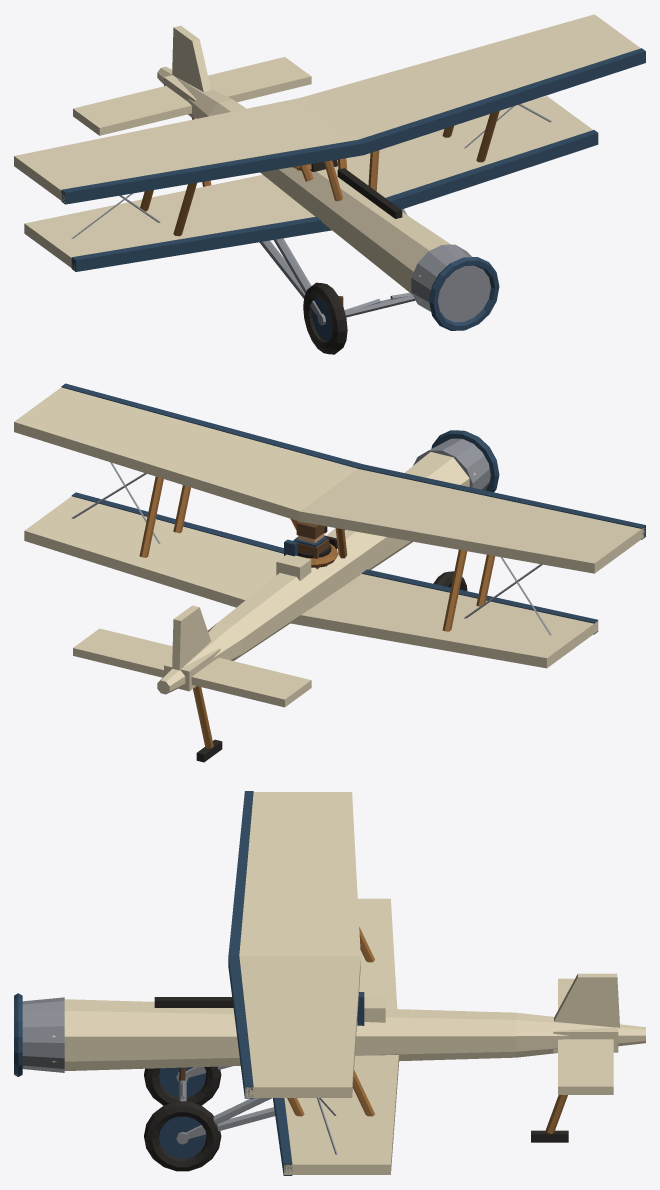
Rendered from body.glb.
The picture shows the model from 3 angles, top to bottom: view 1: azimuth 30°, elevation 25°; view 2: azimuth 150°, elevation 25°; view 3: azimuth 270°, elevation 25°; orthographic projection. The views are drawn at different scales.
Visible parts, largest first — view 1: wing_1, wing_0, wing_1_leading_edge, fuselage, wing_0_leading_edge, horizontal_stabilizer, engine_cowl, tire, cowl_ring, vertical_fin, tail_cone, gun_cowl_c (+5 smaller); view 2: wing_1, wing_0, fuselage, horizontal_stabilizer, wing_1_leading_edge, wing_0_leading_edge, vertical_fin, tail_cone, engine_cowl, cowl_ring, strut_l0_rear, strut_r0_rear (+3 smaller); view 3: wing_1, fuselage, wing_0, tire (×2), horizontal_stabilizer, wing_1_leading_edge, engine_cowl, vertical_fin, tail_cone, rim (×2), gun_cowl_c, wing_0_leading_edge (+5 smaller).
Boxes of the visible parts, x1=… form: wing_1: x1=14, y1=14, x2=640, y2=202; wing_0: x1=24, y1=96, x2=592, y2=270; wing_1_leading_edge: x1=61, y1=48, x2=645, y2=204; fuselage: x1=208, y1=99, x2=450, y2=301; wing_0_leading_edge: x1=71, y1=130, x2=598, y2=271; horizontal_stabilizer: x1=73, y1=57, x2=311, y2=135; engine_cowl: x1=411, y1=244, x2=490, y2=322; tire: x1=303, y1=282, x2=347, y2=354; cowl_ring: x1=429, y1=257, x2=499, y2=330; vertical_fin: x1=172, y1=25, x2=210, y2=91; tail_cone: x1=157, y1=66, x2=232, y2=118; gun_cowl_c: x1=337, y1=168, x2=402, y2=218; wing_1: x1=14, y1=387, x2=644, y2=573; wing_0: x1=24, y1=496, x2=598, y2=668; fuselage: x1=219, y1=452, x2=475, y2=660; horizontal_stabilizer: x1=73, y1=628, x2=311, y2=707; wing_1_leading_edge: x1=61, y1=383, x2=645, y2=539; wing_0_leading_edge: x1=71, y1=492, x2=598, y2=634; vertical_fin: x1=172, y1=605, x2=211, y2=670; tail_cone: x1=157, y1=622, x2=242, y2=694; engine_cowl: x1=413, y1=438, x2=490, y2=490; cowl_ring: x1=431, y1=430, x2=499, y2=492; strut_l0_rear: x1=442, y1=550, x2=467, y2=631; strut_r0_rear: x1=139, y1=476, x2=163, y2=557; wing_1: x1=239, y1=792, x2=360, y2=1097; fuselage: x1=52, y1=999, x2=516, y2=1070; wing_0: x1=284, y1=898, x2=399, y2=1174; tire (×2): x1=144, y1=1066, x2=221, y2=1171; horizontal_stabilizer: x1=558, y1=978, x2=613, y2=1094; wing_1_leading_edge: x1=228, y1=791, x2=253, y2=1098; engine_cowl: x1=22, y1=997, x2=64, y2=1072; vertical_fin: x1=554, y1=973, x2=619, y2=1028; tail_cone: x1=516, y1=1012, x2=645, y2=1057; rim (×2): x1=159, y1=1067, x2=206, y2=1158; gun_cowl_c: x1=154, y1=997, x2=233, y2=1007; wing_0_leading_edge: x1=273, y1=1098, x2=292, y2=1175.
Bounding box in the file's own units: 7.75 × 2.47 × 7.01.
